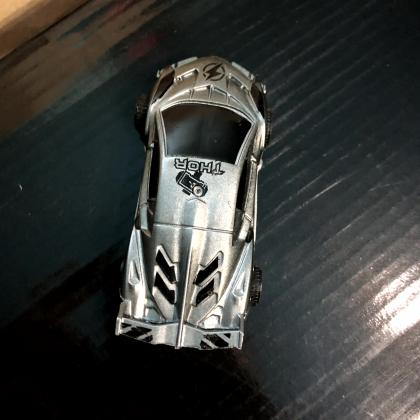Car: (114, 56, 268, 353)
